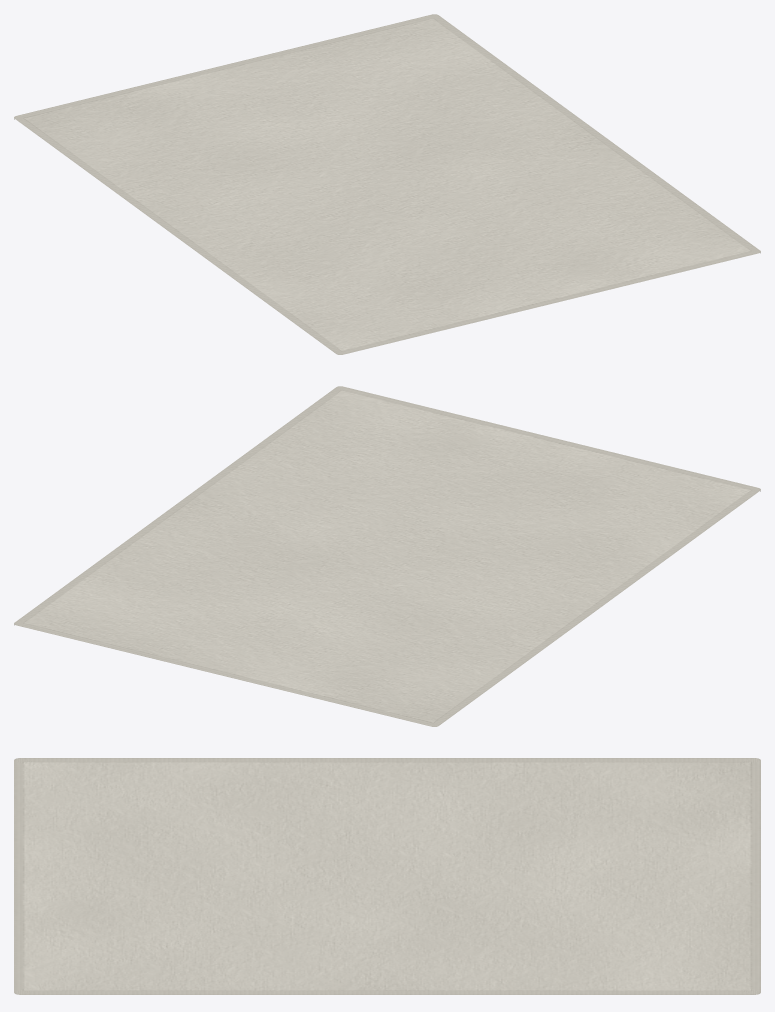
Rendered from ivory_M.glb.
3 views of the same model, one above another, from view 1: azimuth 30°, elevation 25°; view 2: azimuth 150°, elevation 25°; view 3: azimuth 270°, elevation 25° (orthographic). The views are drawn at different scales.
Visible parts, largest first — view 1: reliv_ivory_M; view 2: reliv_ivory_M; view 3: reliv_ivory_M.
Part boxes in pixels (left/top/right/bottom): reliv_ivory_M: left=14, top=14, right=760, bottom=354; reliv_ivory_M: left=14, top=386, right=760, bottom=726; reliv_ivory_M: left=14, top=758, right=760, bottom=994.
Size of the model in its own units: 1.5 by 0.009 by 2.
2 materials, 1 textured.
